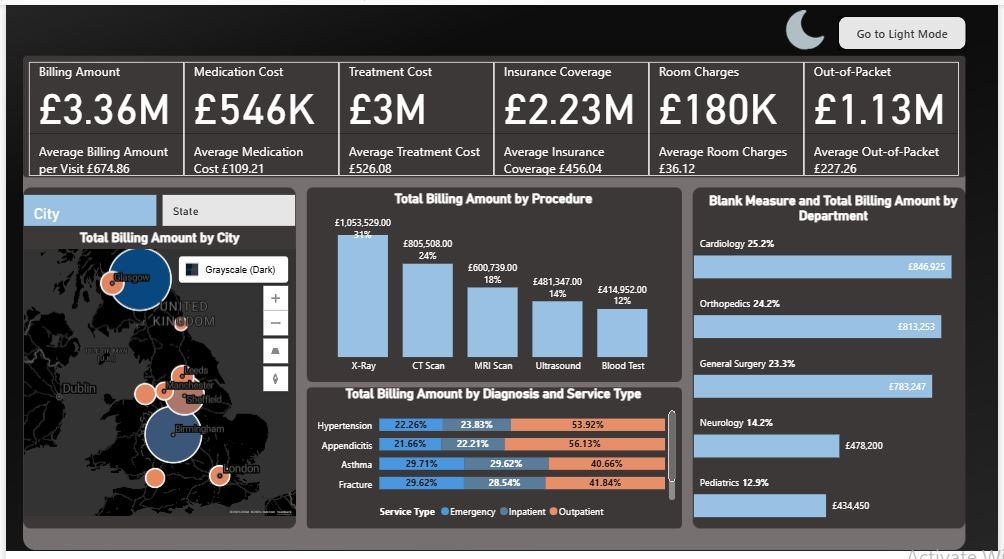

What the dashboard file says about the page in this screenshot:
{"tool":"powerbi","page":{"name":"Dark Mode","canvas":[1280,720],"ordinal":0},"visuals":[{"type":"cardVisual","fields":{"Data":["DAX calculation.Total Billing Amount","DAX calculation.Total Medication Cost","DAX calculation.Total Treatment Cost","DAX calculation.Total Insurance Coverage","DAX calculation.Total Room Charges","DAX calculation.Out-of-Packet"]},"box":[24.1,68,1214.6,157.3],"z":0},{"type":"qnaVisual","box":[0,705,1280,15],"z":1000},{"type":"azureMap","fields":{"Category":["cities.City"],"Size":["DAX calculation.Total Billing Amount"]},"box":[17.7,290.8,360.7,373.8],"z":2000},{"type":"advancedSlicerVisual","fields":{"Values":["Patients Location Switch.Patients Location Switch"]},"box":[17.7,240,360.7,50.8],"z":3000},{"type":"clusteredColumnChart","fields":{"Category":["procedures.Procedure"],"Y":["DAX calculation.Total Billing Amount"]},"box":[390.3,239.5,478.7,244.3],"z":4000},{"type":"hundredPercentStackedBarChart","fields":{"Y":["DAX calculation.Total Billing Amount"],"Category":["diagnoses.Diagnosis"],"Series":["visits.Service Type"]},"box":[390.3,492.2,478.7,180.3],"z":5000},{"type":"clusteredBarChart","fields":{"Category":["departments.Department"],"Y":["DAX calculation.Blank Measure","DAX calculation.Total Billing Amount"]},"box":[883,242.9,370,425.7],"z":6000},{"type":"actionButton","title":"Go to Light Mode","box":[1072.9,14.2,165.8,43.9],"z":7000}]}

Visuals, with their boxes on the page's 1280x720 design canvas (x1, y1, x2, y2). These are canvas units, not pixel positions in the 1004x559 screenshot, which may show the page scaled, cropped or inside an application window:
cardVisual - DAX calculation.Total Billing Amount x DAX calculation.Total Medication Cost: <bbox>24, 68, 1239, 225</bbox>
qnaVisual: <bbox>0, 705, 1280, 720</bbox>
azureMap - cities.City x DAX calculation.Total Billing Amount: <bbox>18, 291, 378, 665</bbox>
advancedSlicerVisual - Patients Location Switch.Patients Location Switch: <bbox>18, 240, 378, 291</bbox>
clusteredColumnChart - procedures.Procedure x DAX calculation.Total Billing Amount: <bbox>390, 240, 869, 484</bbox>
hundredPercentStackedBarChart - DAX calculation.Total Billing Amount x diagnoses.Diagnosis: <bbox>390, 492, 869, 672</bbox>
clusteredBarChart - departments.Department x DAX calculation.Blank Measure: <bbox>883, 243, 1253, 669</bbox>
"Go to Light Mode" actionButton: <bbox>1073, 14, 1239, 58</bbox>
